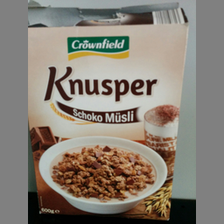cereal: (28, 25, 191, 222)
